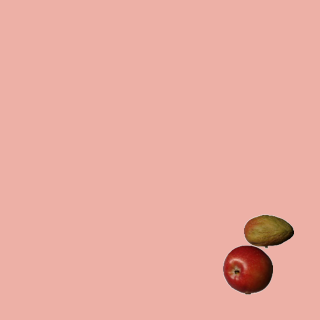Apple Braeburn: (222, 244, 272, 294)
Papaya: (243, 206, 293, 256)
